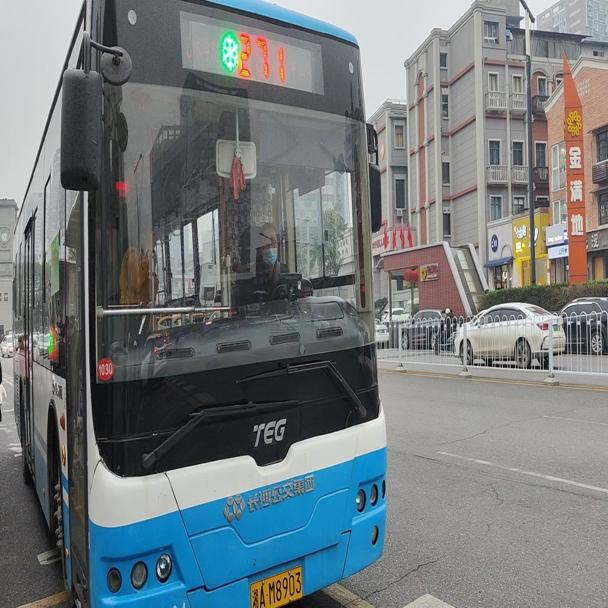bus: (14, 0, 388, 598)
screen: (238, 27, 289, 85)
